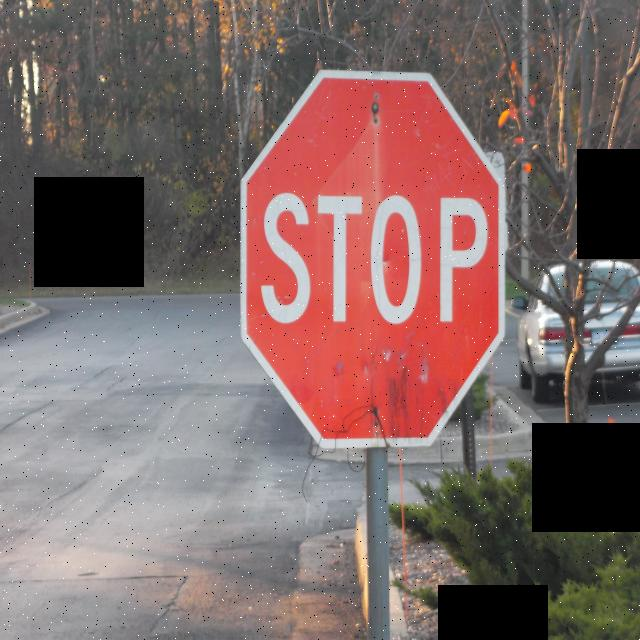stop: (240, 68, 507, 450)
